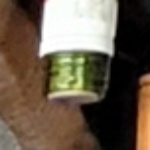bottle: (20, 23, 120, 125)
